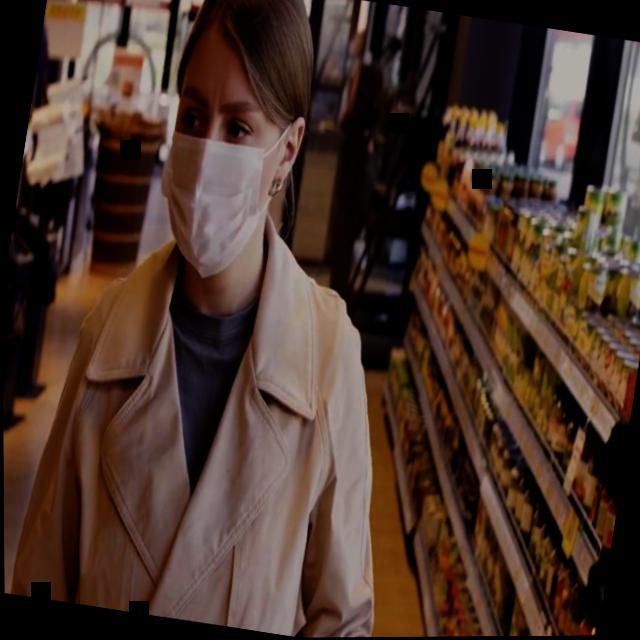Mask: (149, 59, 300, 291)
